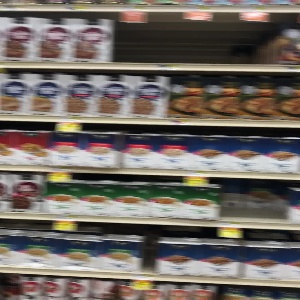void: (113, 10, 275, 66), (219, 178, 292, 225)
